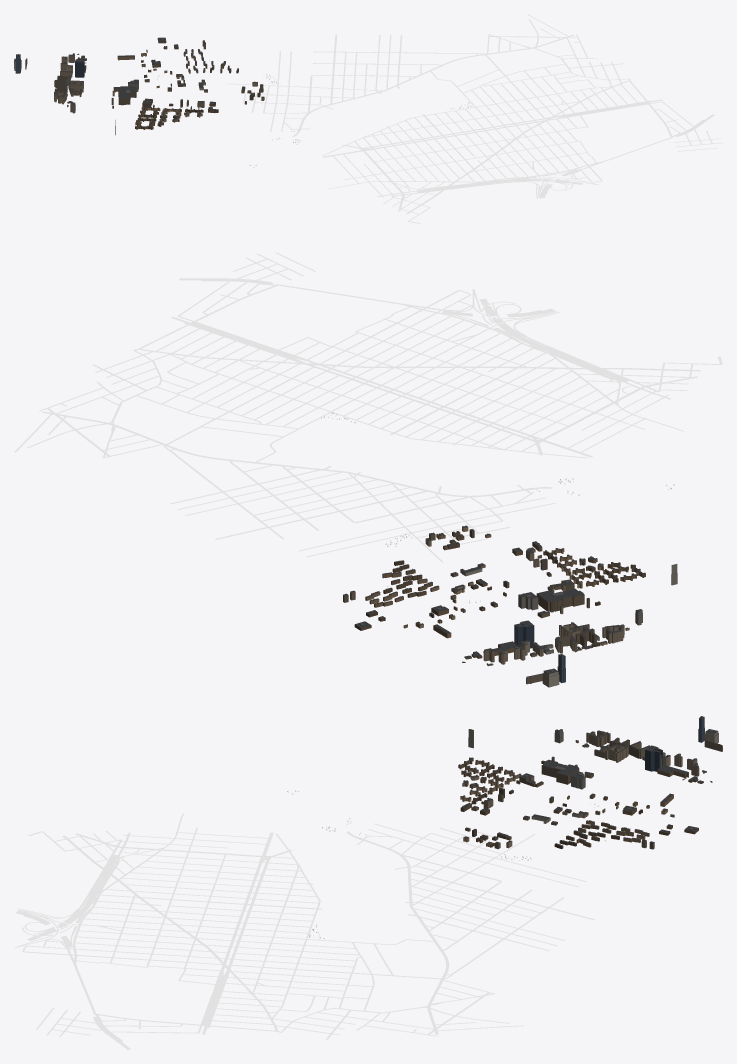
Rendered from manhattan_+01_-02.glb.
3 views of the same model, one above another, from view 1: azimuth 30°, elevation 25°; view 2: azimuth 150°, elevation 25°; view 3: azimuth 270°, elevation 25° (orthographic). The views are drawn at different scales.
Visible parts, largest first — view 1: ROAD_+01_-02, BLD_lowrise_+01_-02, BLD_midrise_+01_-02; view 2: ROAD_+01_-02, BLD_lowrise_+01_-02, BLD_midrise_+01_-02, BLD_towers_+01_-02; view 3: ROAD_+01_-02, BLD_lowrise_+01_-02, BLD_midrise_+01_-02, BLD_towers_+01_-02.
Part boxes in pixels (x1,y1,x2,y2): ROAD_+01_-02: (226, 14, 722, 223); BLD_lowrise_+01_-02: (54, 37, 264, 129); BLD_midrise_+01_-02: (14, 40, 263, 113); ROAD_+01_-02: (14, 252, 722, 562); BLD_lowrise_+01_-02: (354, 525, 645, 666); BLD_midrise_+01_-02: (343, 529, 642, 687); BLD_towers_+01_-02: (514, 564, 677, 683); ROAD_+01_-02: (14, 813, 595, 1049); BLD_lowrise_+01_-02: (458, 740, 712, 848); BLD_midrise_+01_-02: (472, 729, 722, 849); BLD_towers_+01_-02: (468, 716, 704, 771).
Size of the model in its own units: 4037 by 148 by 3893.
